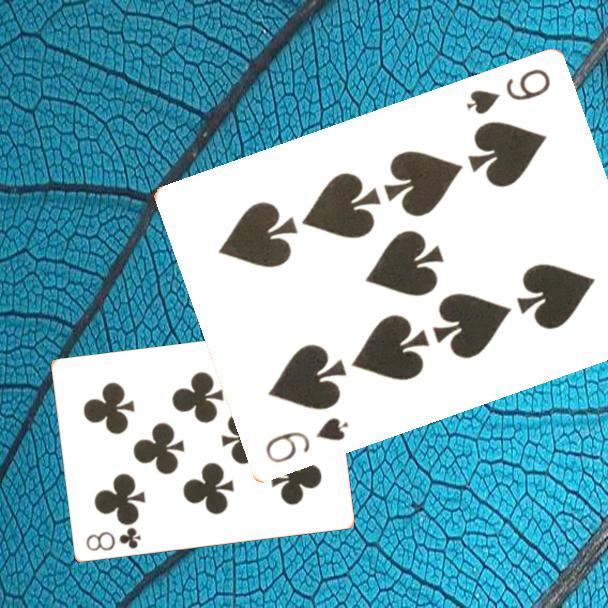c08: (82, 524, 143, 554)
s09: (462, 65, 553, 118), (261, 414, 351, 467)
